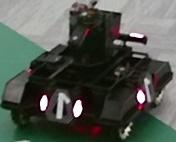armor_1: (40, 95, 83, 118)
front_1: (46, 89, 73, 124)
left_1: (142, 73, 154, 105)
